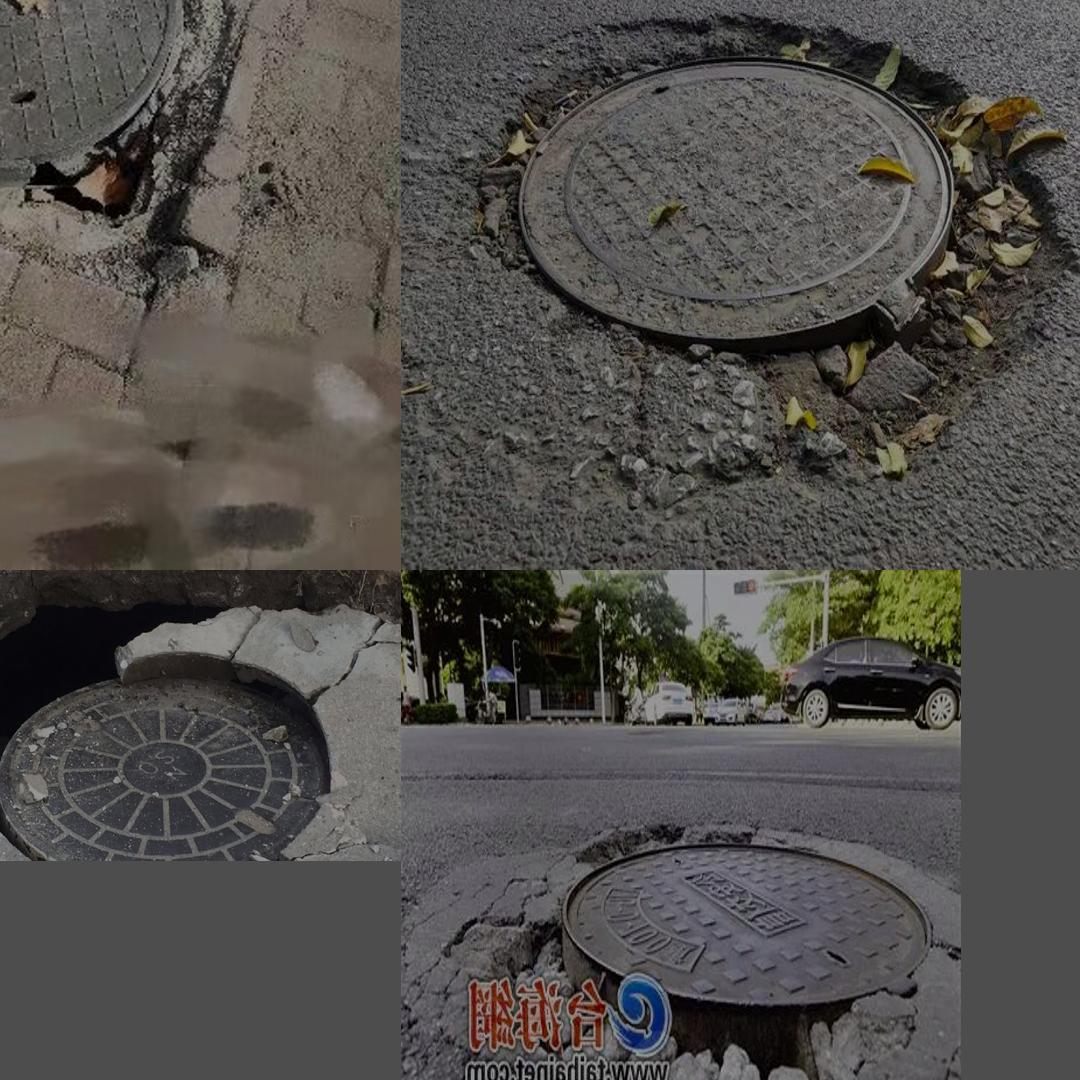circle: (418, 12, 1063, 489), (431, 821, 951, 1080), (0, 581, 395, 857), (0, 0, 245, 212)
